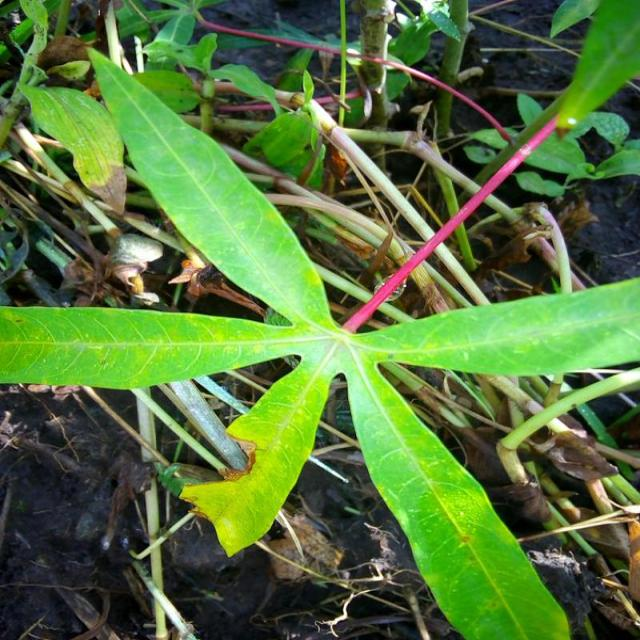Mosaico: (152, 295, 333, 509)
